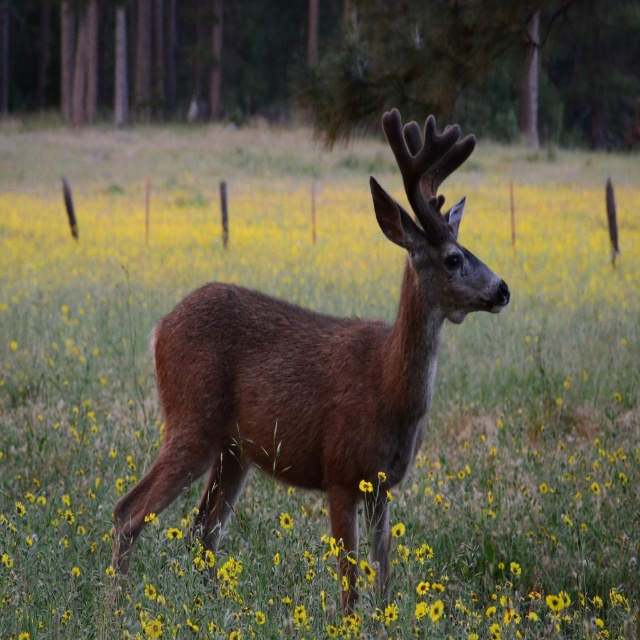Deer: (112, 108, 510, 627)
